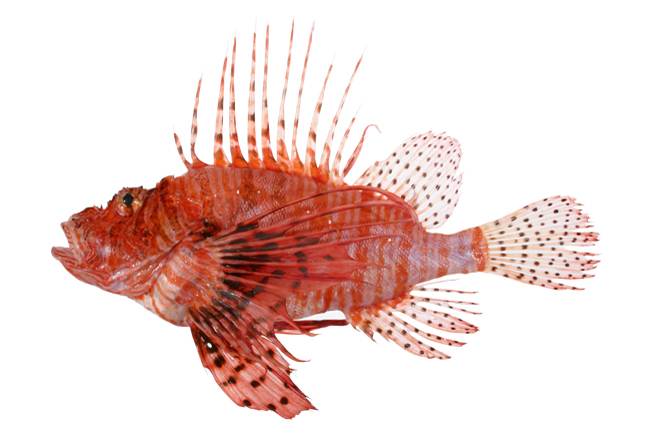Pterois_volitans: (28, 97, 620, 401)
